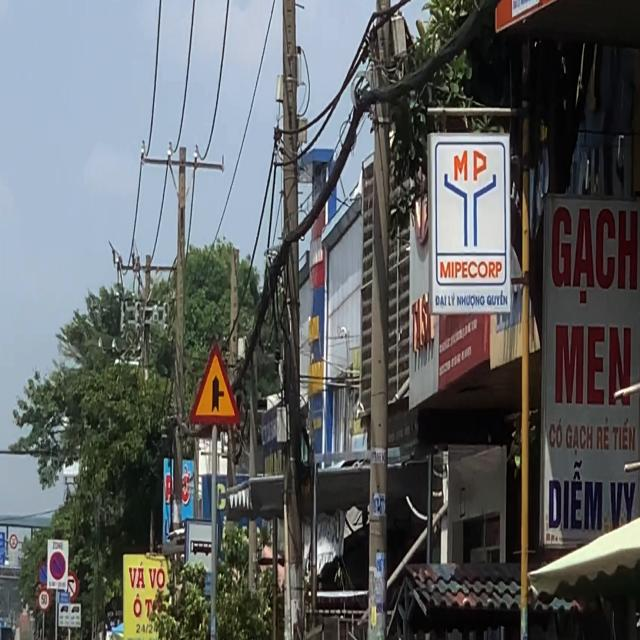Giao voi duong khong uu tien: (189, 342, 243, 430)
